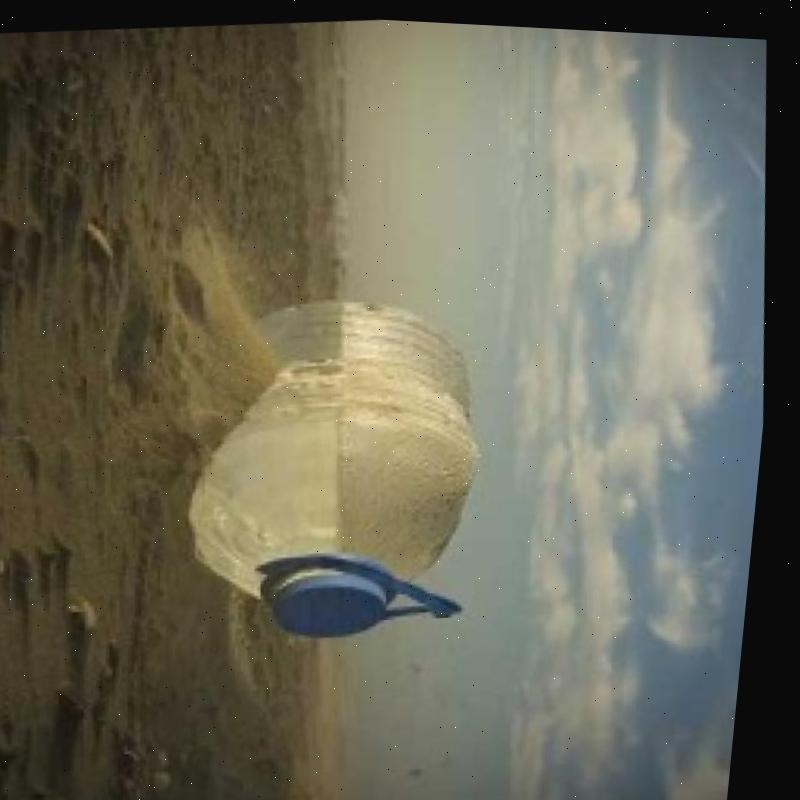botella: (164, 282, 507, 657)
